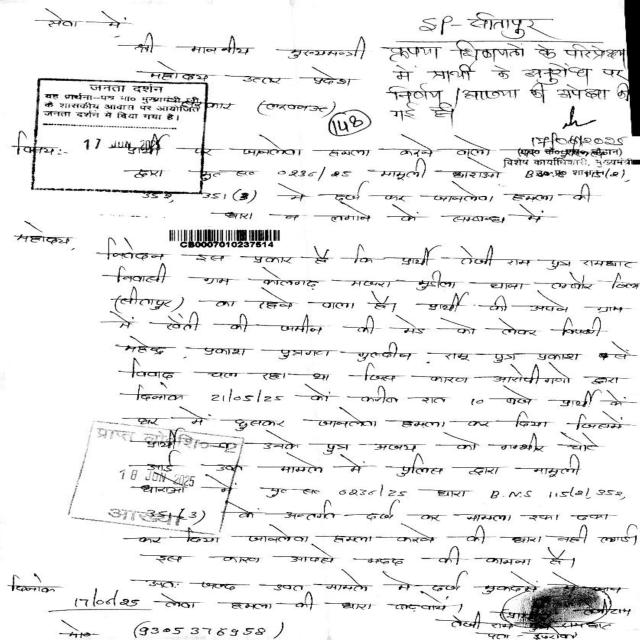antritgovtstamp: (68, 412, 246, 536)
barcode: (168, 222, 284, 254)
fingerprint: (502, 583, 620, 634)
jantadarsan: (32, 80, 206, 190)
